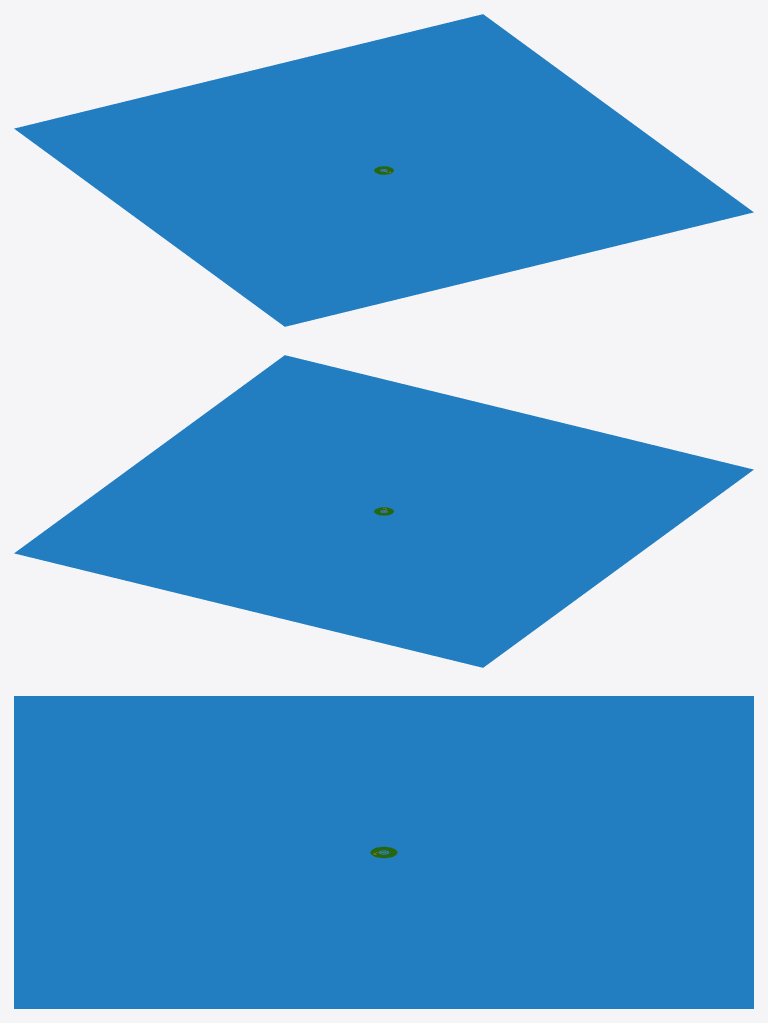
File: Land.glb
3 renders of one model, top to bottom at view 1: azimuth 30°, elevation 25°; view 2: azimuth 150°, elevation 25°; view 3: azimuth 270°, elevation 25°, orthographic. The views are drawn at different scales.
Visible parts, largest first — view 1: Water; view 2: Water; view 3: Water.
Boxes of the visible parts, box(x1,y1,x2,y2) form: Water: box(14, 14, 753, 326); Water: box(14, 355, 753, 667); Water: box(14, 696, 753, 1008).
Size of the model in its own units: 4000 by 20.31 by 4000.
